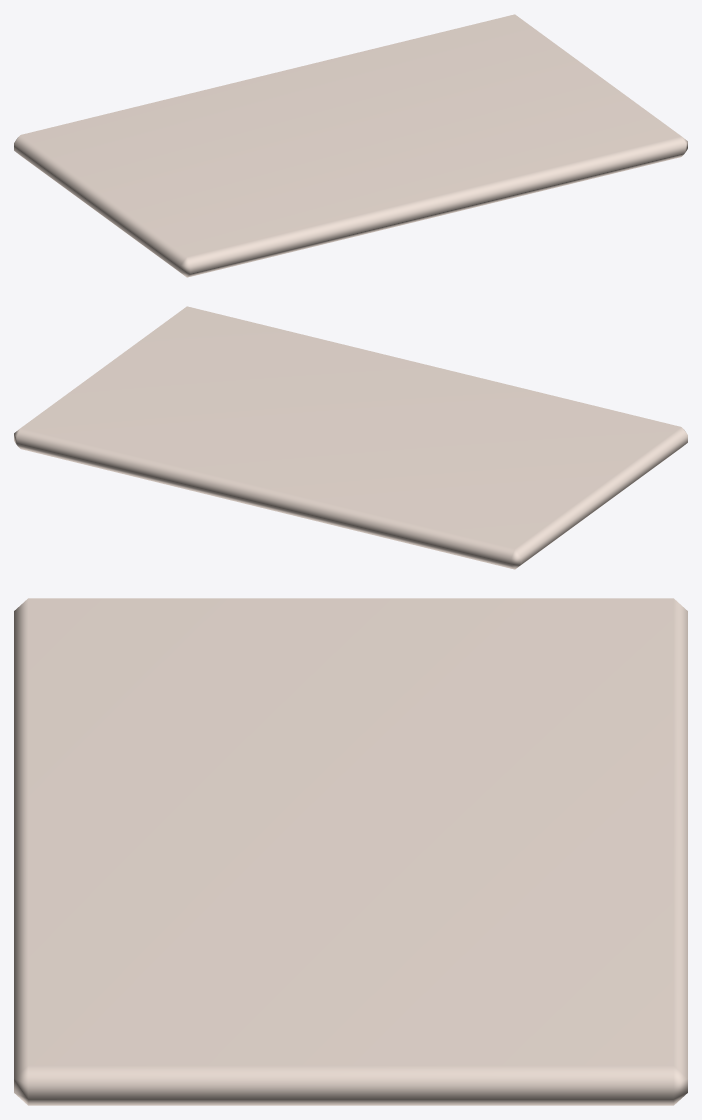
Rendered from Carpet_15.glb.
The picture shows the model from 3 angles, top to bottom: view 1: azimuth 30°, elevation 25°; view 2: azimuth 150°, elevation 25°; view 3: azimuth 270°, elevation 25°; orthographic projection. The views are drawn at different scales.
Parts seen in each view (by area): view 1: Carpet_15; view 2: Carpet_15; view 3: Carpet_15.
Part boxes in pixels (<box>): Carpet_15: <box>14,14,687,277</box>; Carpet_15: <box>14,306,687,569</box>; Carpet_15: <box>14,598,687,1105</box>.
Size of the model in its own units: 1.38 by 0.0541 by 0.8218.
Materials: 1 (1 with a texture image).
